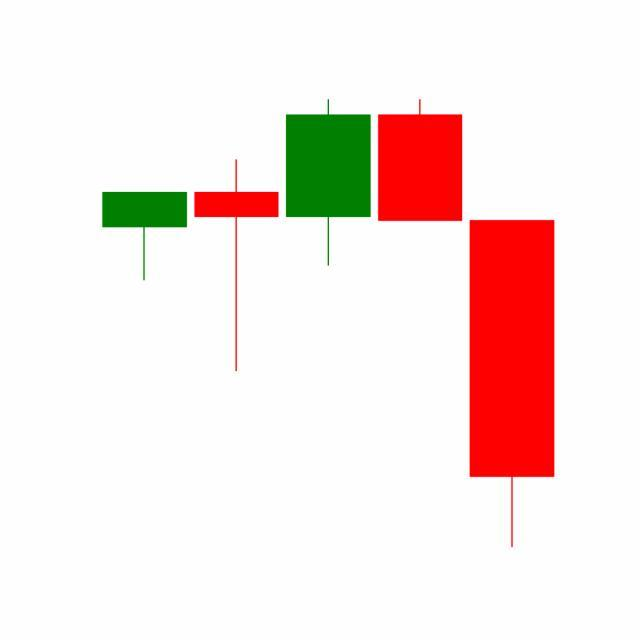Marubozu: (374, 98, 468, 223)
